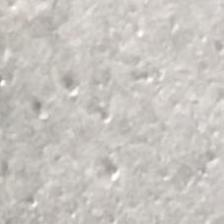Non_Crack: (34, 30, 202, 206)
